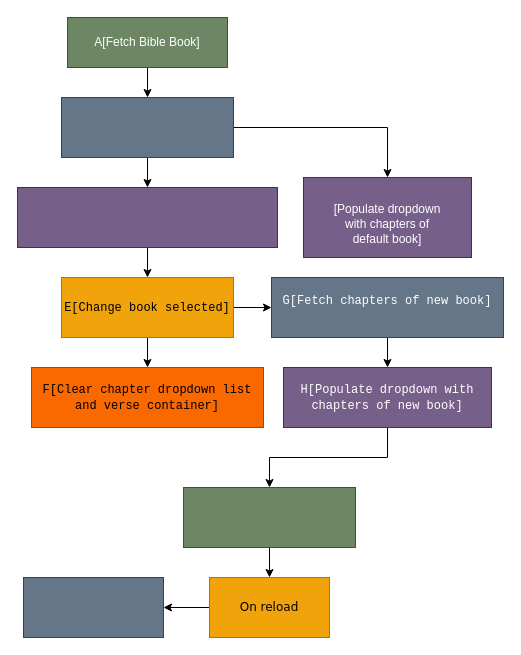
Some shapes in this 521 by 655 pixel diagram are drawn without their labels. The shapes that lost their labels are listed below. From the top down, each one's centre as x and y in pixels, then its label:
At point (147, 127): "B{Fetch loads default book with chapter 1}".
At point (147, 217): "C[Populate dropdown with books]".
At point (269, 517): "I{Chapter 1 of new book}".
At point (93, 607): "Fetches last loaded book and chapter".
